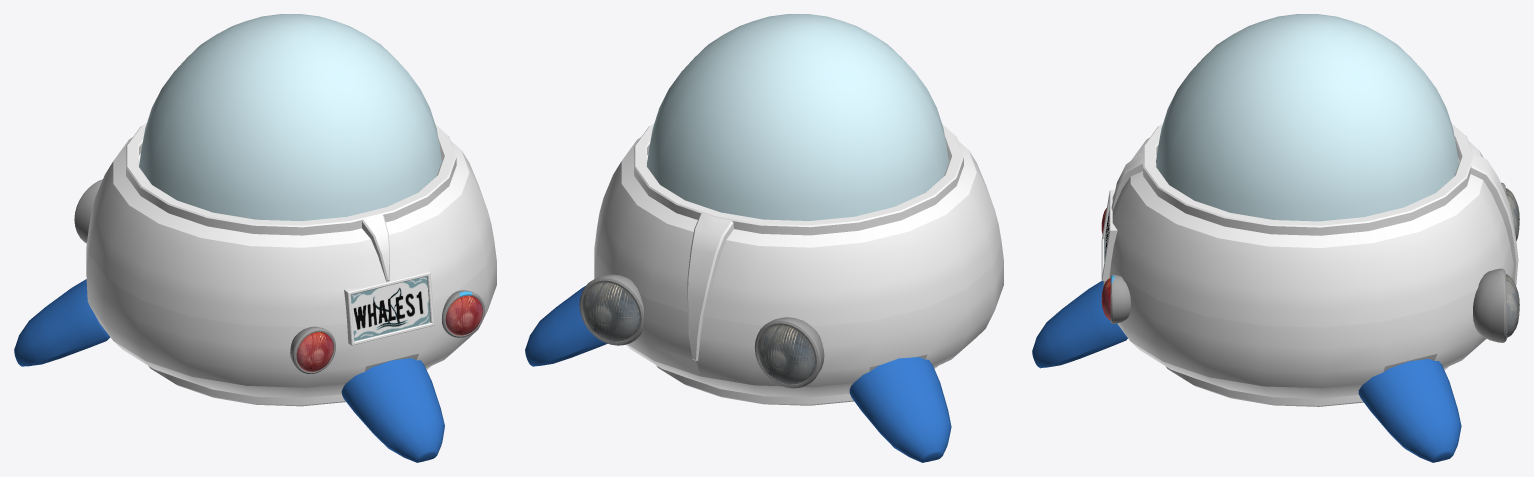
The model's file is Robot_Final.fbx.
The picture shows the model from 3 angles, left to right: view 1: azimuth 30°, elevation 25°; view 2: azimuth 150°, elevation 25°; view 3: azimuth 270°, elevation 25°; orthographic projection.
Parts seen in each view (by area): view 1: polySurface29, pSphere7, polySurface41, polySurface37, polySurface23, polySurface19, polySurface20; view 2: polySurface29, pSphere7, polySurface37, polySurface20, polySurface22, polySurface25; view 3: polySurface29, pSphere7, polySurface25, polySurface41, polySurface22, polySurface19.
Boxes of the visible parts, left/top/right/bottom form: polySurface29: left=86, top=123, right=496, bottom=406; pSphere7: left=139, top=14, right=442, bottom=221; polySurface41: left=341, top=358, right=444, bottom=462; polySurface37: left=14, top=279, right=110, bottom=366; polySurface23: left=290, top=326, right=335, bottom=373; polySurface19: left=442, top=290, right=485, bottom=337; polySurface20: left=74, top=179, right=102, bottom=243; polySurface29: left=594, top=123, right=1003, bottom=405; pSphere7: left=647, top=14, right=948, bottom=220; polySurface37: left=849, top=357, right=951, bottom=462; polySurface20: left=754, top=317, right=824, bottom=388; polySurface22: left=579, top=274, right=643, bottom=345; polySurface25: left=525, top=286, right=607, bottom=366; polySurface29: left=1101, top=123, right=1518, bottom=406; pSphere7: left=1156, top=14, right=1458, bottom=221; polySurface25: left=1358, top=359, right=1461, bottom=462; polySurface41: left=1032, top=281, right=1127, bottom=368; polySurface22: left=1473, top=268, right=1519, bottom=342; polySurface19: left=1101, top=274, right=1130, bottom=323.
Bounding box in the file's own units: 8.2 × 6.32 × 8.29.
